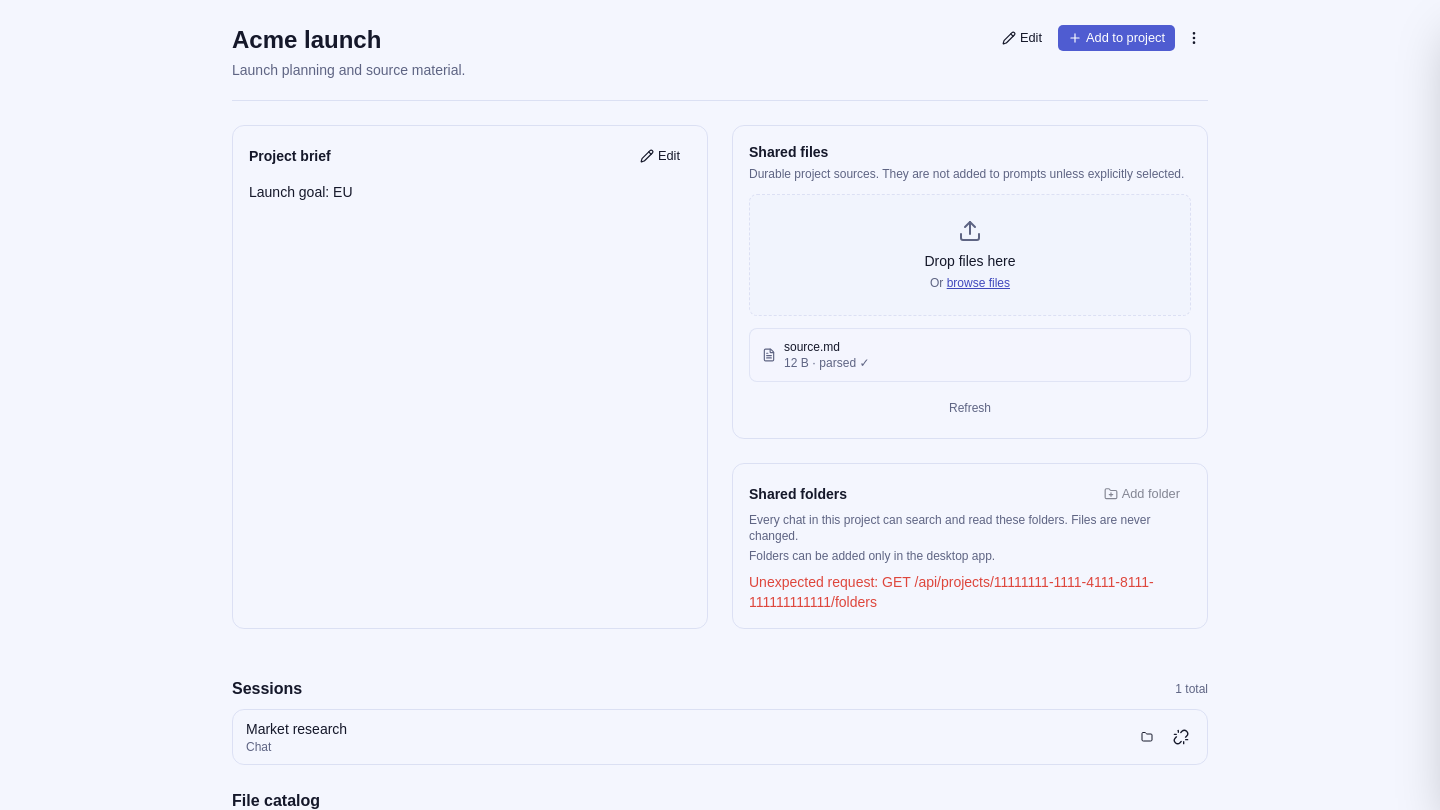
LibraryPanel › shows a top-positioned disconnect tooltip for a project session
Hover over the button named "Remove Market research from project" at {"x": 1181, "y": 737}, box [1167,723,1195,751]
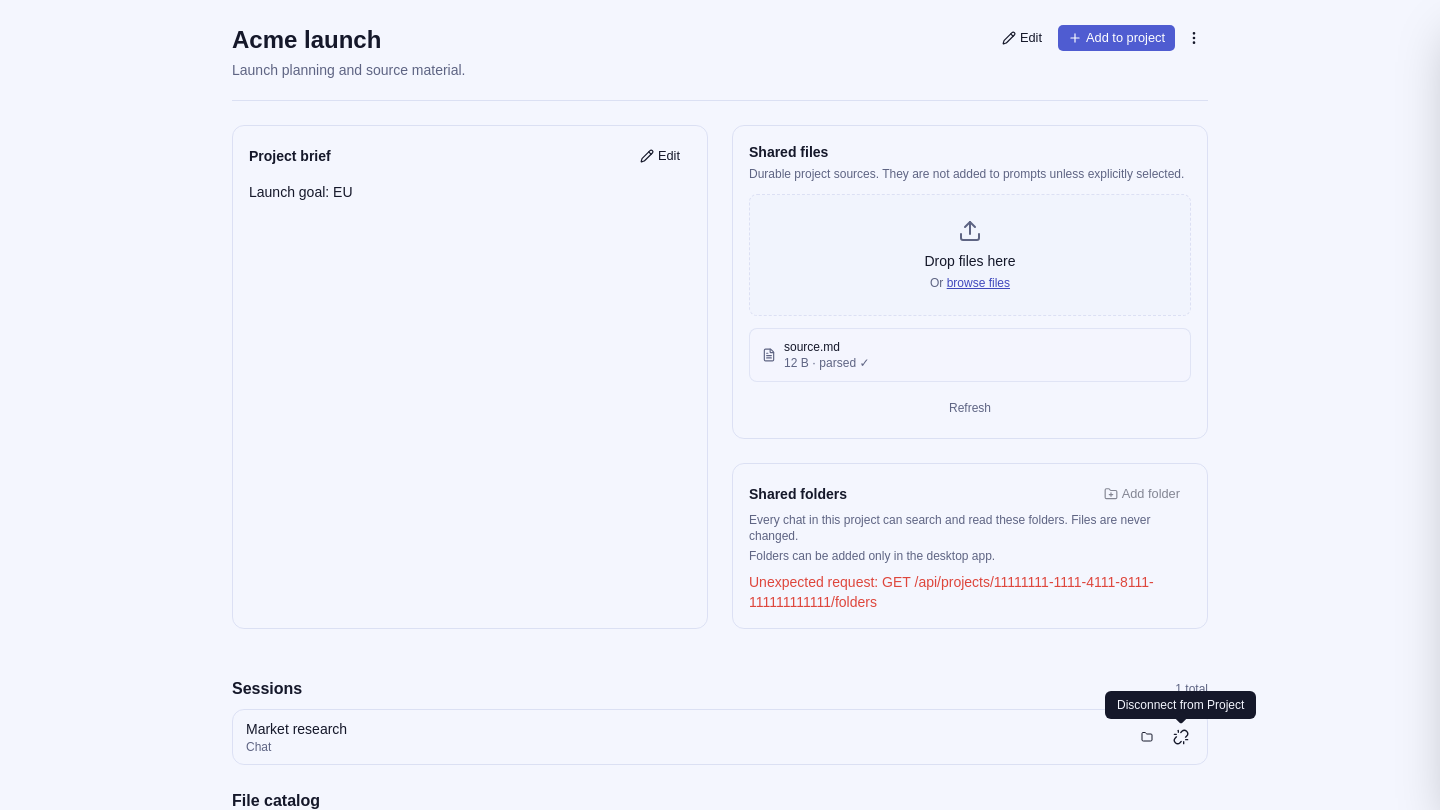
expect the element showing "Disconnect from Project" is shown: met, box [1105,691,1256,719]
